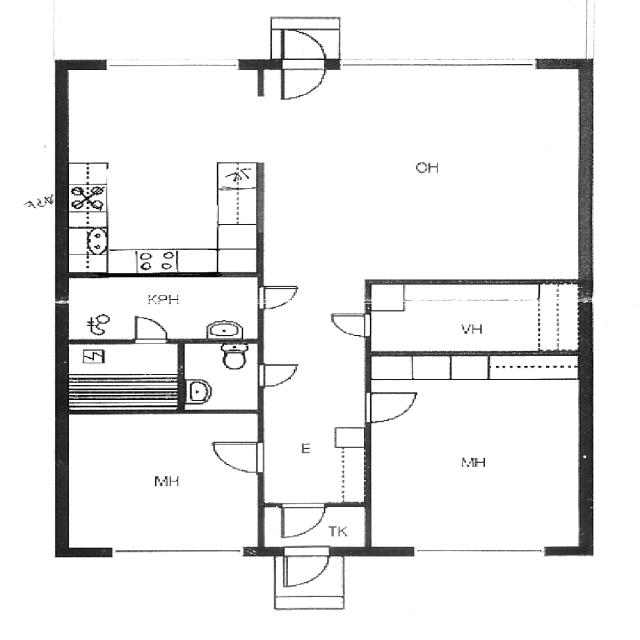door: (272, 27, 331, 102), (279, 546, 331, 591), (206, 438, 266, 474), (363, 388, 422, 424), (276, 502, 328, 540), (251, 359, 304, 391), (324, 307, 374, 340), (126, 314, 176, 345), (253, 282, 303, 312)
window: (341, 53, 545, 77), (96, 51, 250, 79), (403, 543, 554, 563), (104, 545, 254, 560)
zone: (260, 63, 586, 288), (363, 355, 589, 555), (64, 64, 258, 271), (63, 412, 262, 552), (362, 282, 574, 354), (59, 275, 264, 342), (61, 342, 183, 414), (180, 340, 258, 413)
